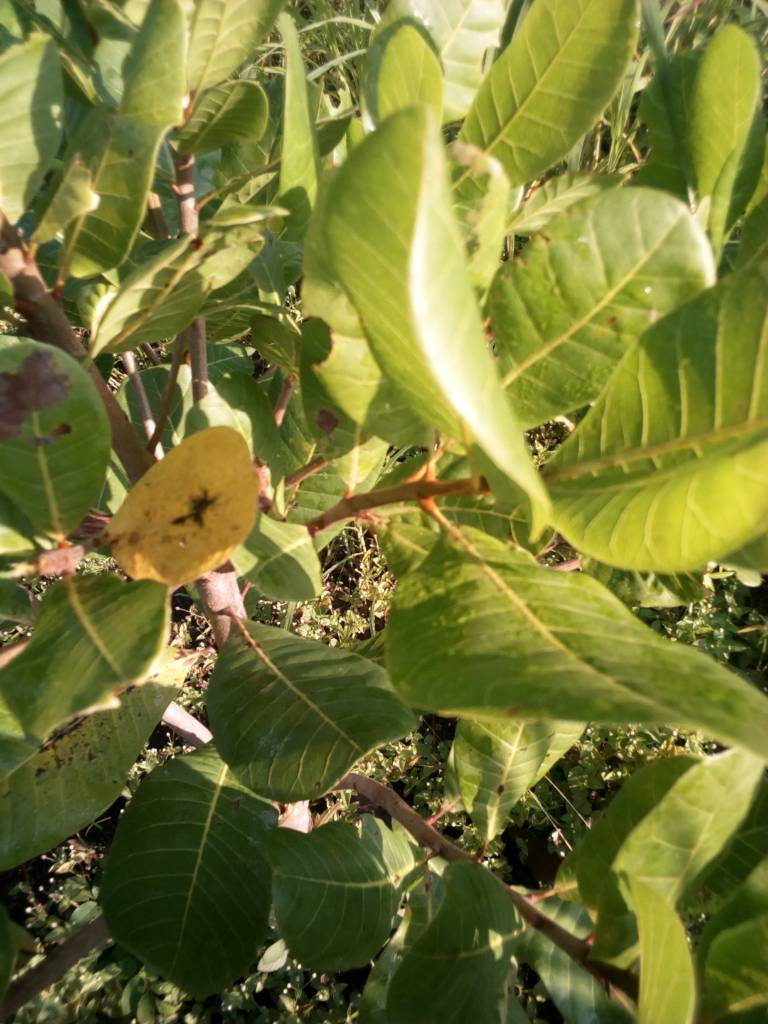Bactériose: (1, 641, 185, 864), (102, 422, 257, 586), (1, 338, 115, 560)
